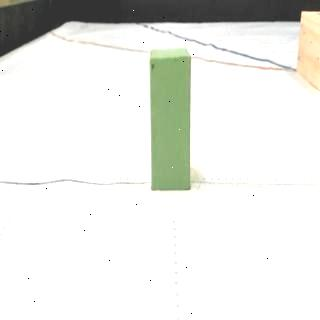greenbox: (151, 49, 190, 192)
